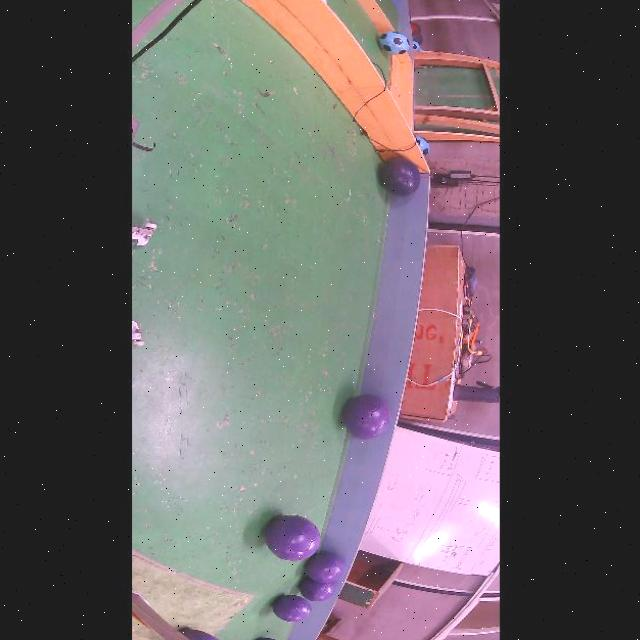B: (379, 156, 419, 196)
P: (264, 514, 320, 560), (341, 394, 389, 439), (304, 551, 343, 583), (271, 595, 311, 622), (298, 577, 334, 601)
